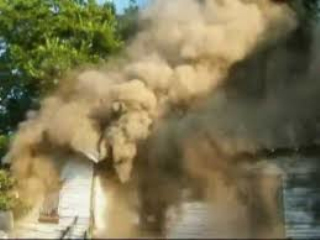smoke: (19, 55, 238, 230)
